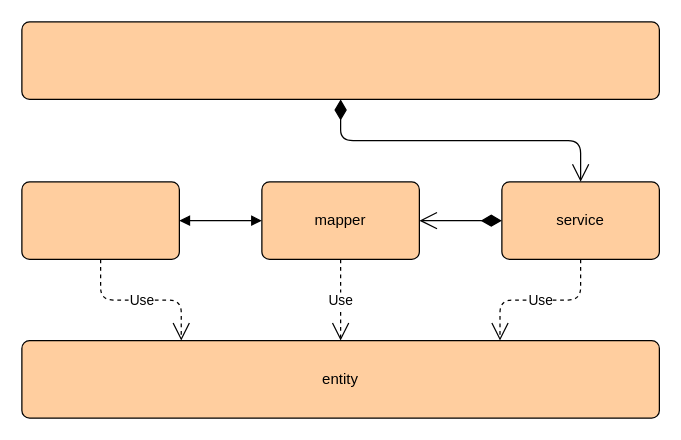
The diagram is 681 pixels wide and 440 high, and some of its shapes have lost their labels. Each missing label, with the centre of its shape:
"controller" belongs at [340,60].
"xml" belongs at [100,220].
